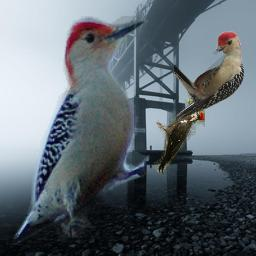Woodpecker: (12, 16, 150, 245), (174, 31, 244, 123), (154, 99, 205, 174)
